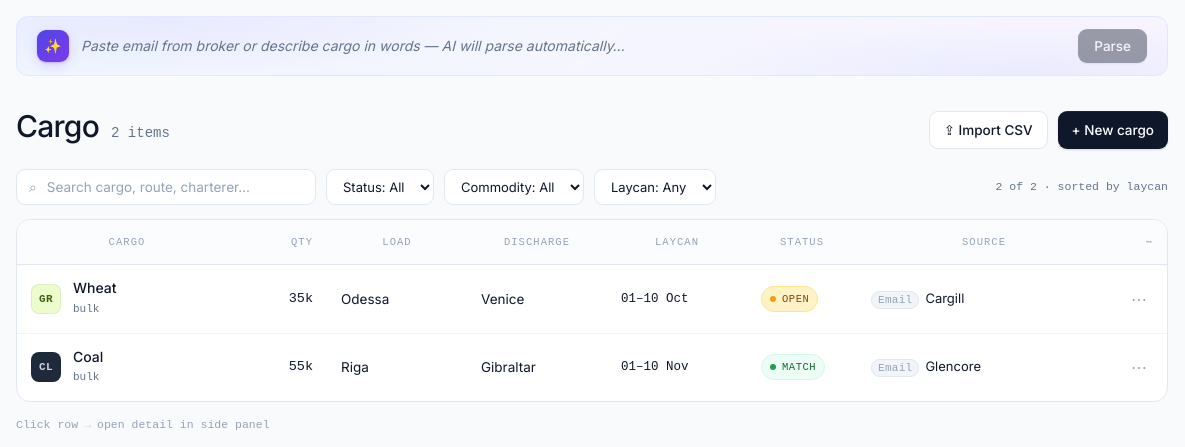
it: CargoClient › laycan filter "this month" shows only rows whose laycan month matches current month
Select "This month" in the dropdown named "Filter by laycan" at (655, 187), box 594,169 -> 716,205
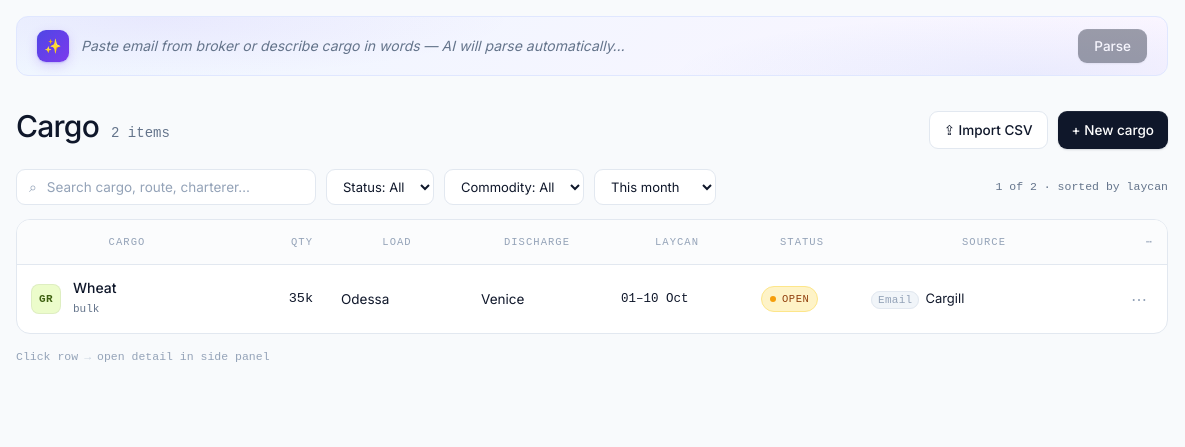
expect the text "Wheat" is shown: met, box 73,279 -> 116,296
expect the text "Coal" is gone: met
